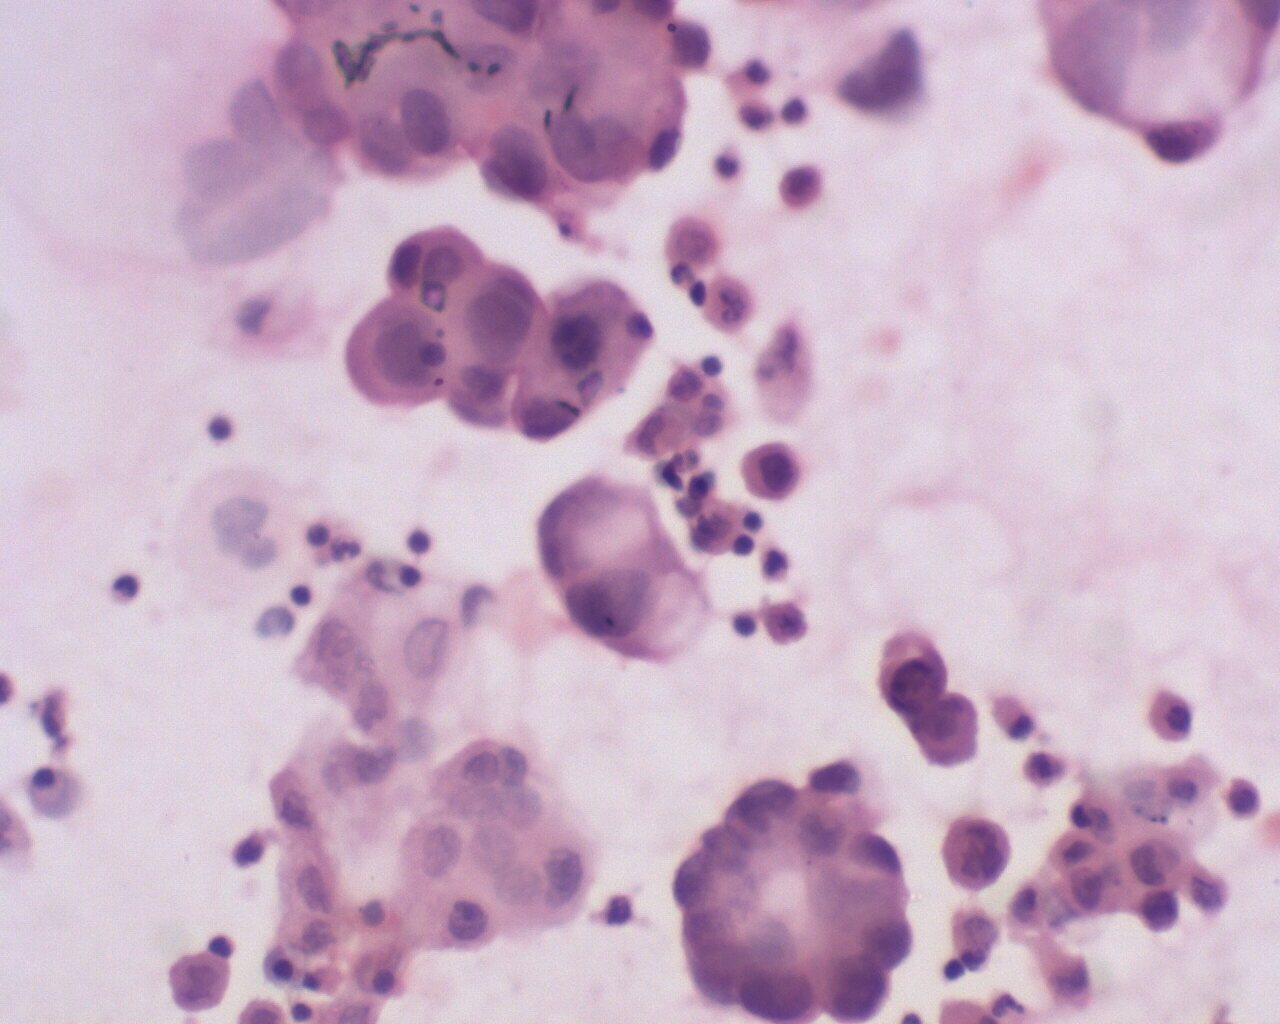ab: (537, 475, 713, 664), (339, 293, 444, 408), (866, 628, 948, 720), (933, 811, 1013, 889), (913, 689, 983, 773)
lymph: (199, 405, 241, 449), (284, 574, 316, 615)
meso: (739, 436, 806, 505), (1143, 688, 1198, 744)
